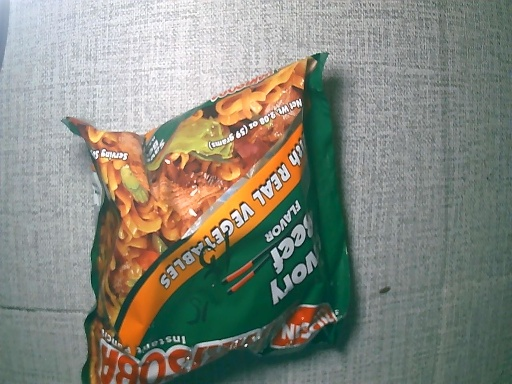plastic: (61, 51, 345, 384)
